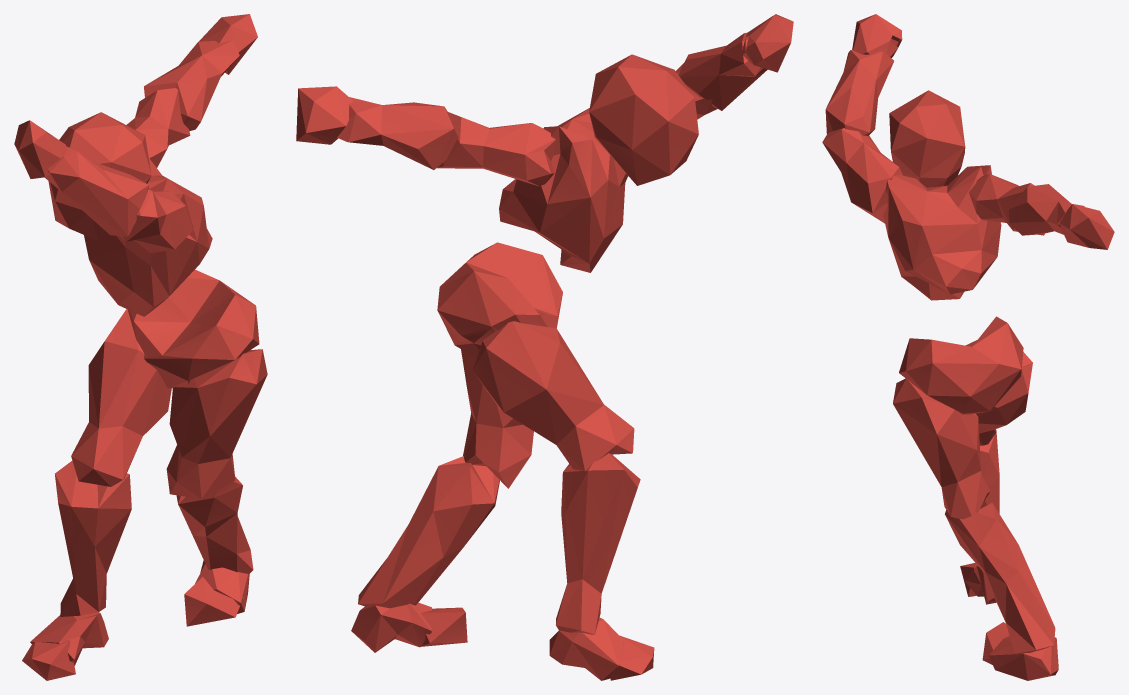
File: 2dancer0189.obj
The picture shows the model from 3 angles, left to right: view 1: azimuth 30°, elevation 25°; view 2: azimuth 150°, elevation 25°; view 3: azimuth 270°, elevation 25°; orthographic projection. The views are drawn at different scales.
Parts seen in each view (by area): view 1: Beta_Surface; view 2: Beta_Surface; view 3: Beta_Surface.
Boxes of the visible parts, x1,y1,x2,y2 form: Beta_Surface: (14,14,267,680); Beta_Surface: (296,14,793,680); Beta_Surface: (822,14,1114,680).
Size of the model in its own units: 1.07 by 1.78 by 0.8714.
